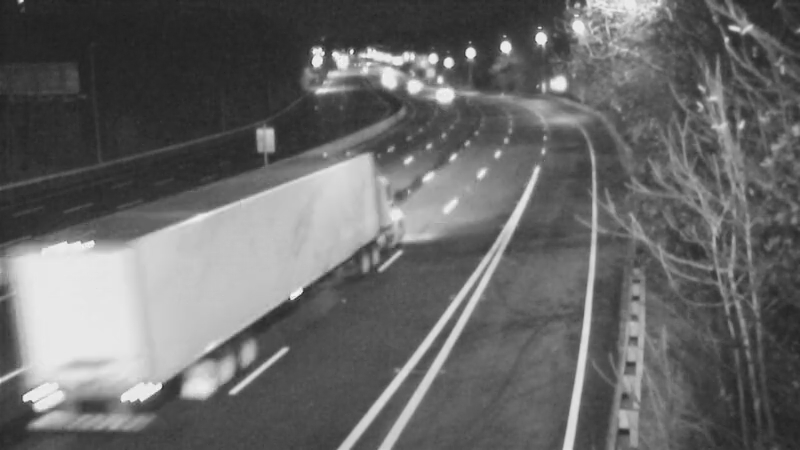vehicle: (258, 206, 338, 286), (383, 59, 433, 109), (416, 68, 466, 118)
